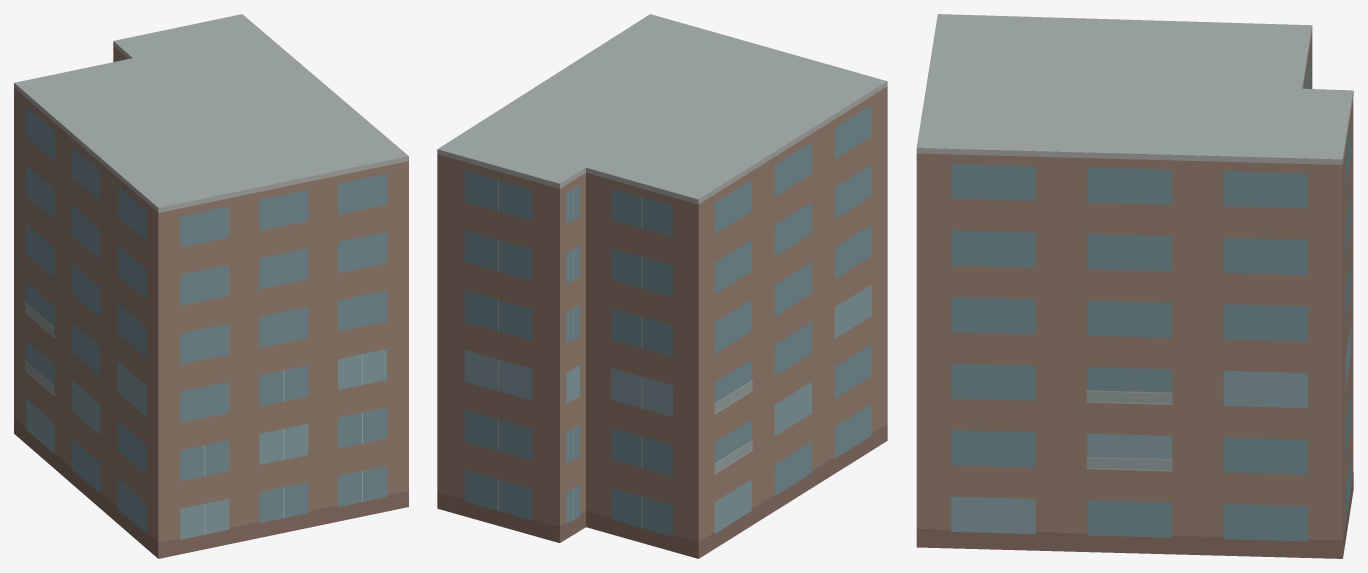
File: survey-upis-33047217.glb
3 renders of one model, left to right at view 1: azimuth 30°, elevation 25°; view 2: azimuth 150°, elevation 25°; view 3: azimuth 270°, elevation 25°, orthographic. The views are drawn at different scales.
Visible parts, largest first — view 1: survey-upis-33047217.tmp; view 2: survey-upis-33047217.tmp; view 3: survey-upis-33047217.tmp.
Part boxes in pixels (box(x1,y1,x2,y2)): survey-upis-33047217.tmp: box(14, 14, 408, 558); survey-upis-33047217.tmp: box(437, 14, 887, 558); survey-upis-33047217.tmp: box(916, 14, 1353, 558).
Size of the model in its own units: 13.67 by 17.5 by 17.36.
